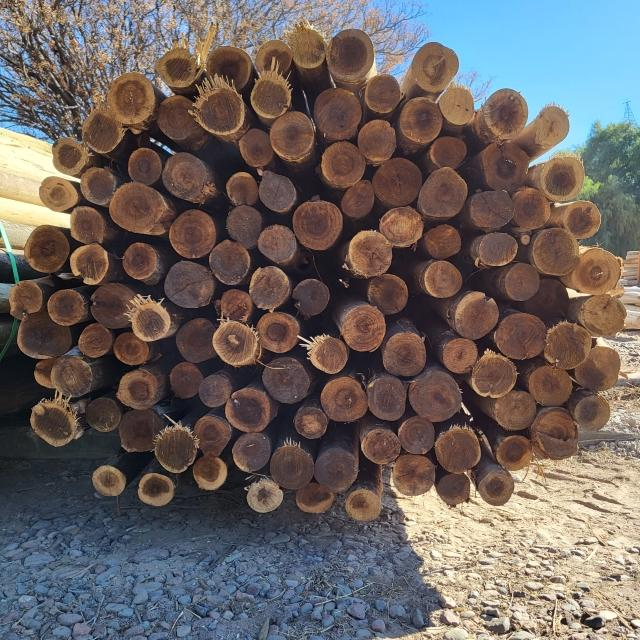package: (10, 23, 625, 523)
